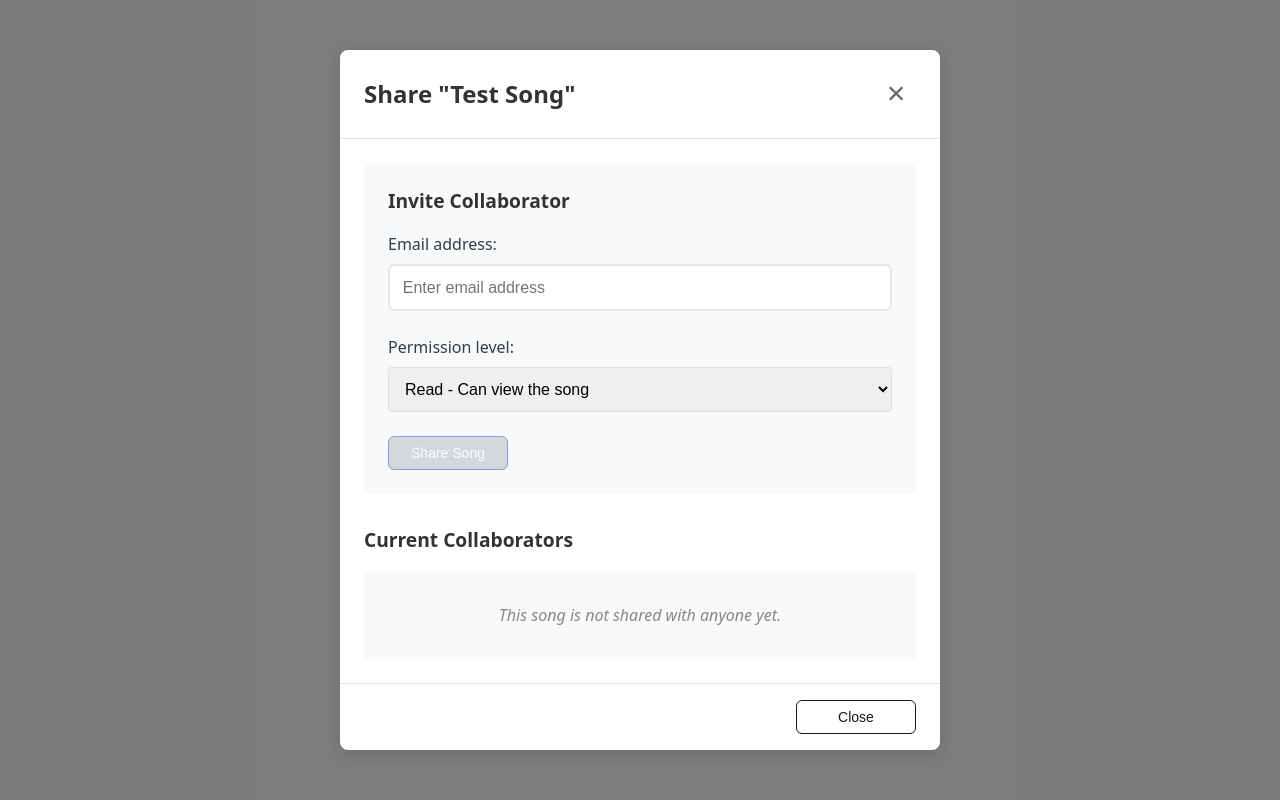
Scenario: SongSharingModal › handles sharing errors
Type "invalid@example.com" into the field labelled "Email address:".
click(640, 288); type("invalid@example.com")  # box [388,264,892,311]
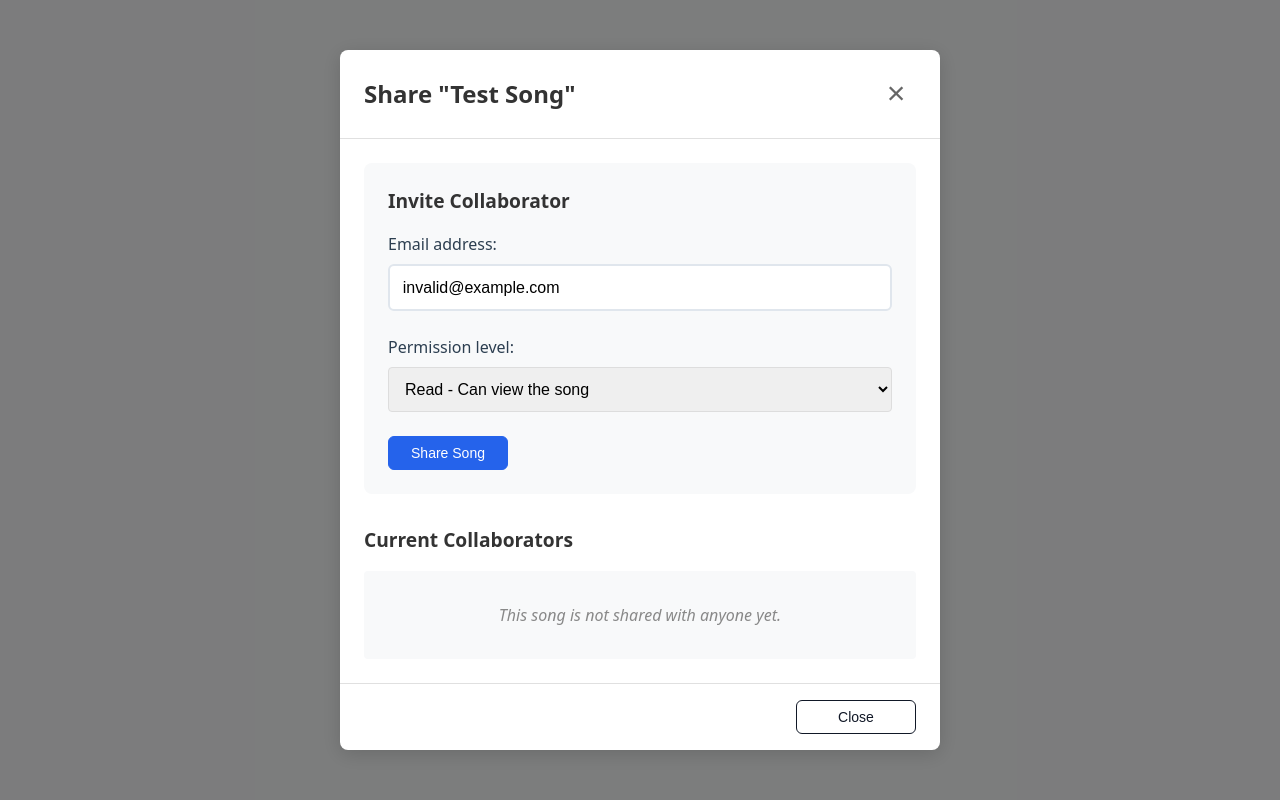
Click the button "Share Song".
click(448, 453)  # box [388,436,508,470]
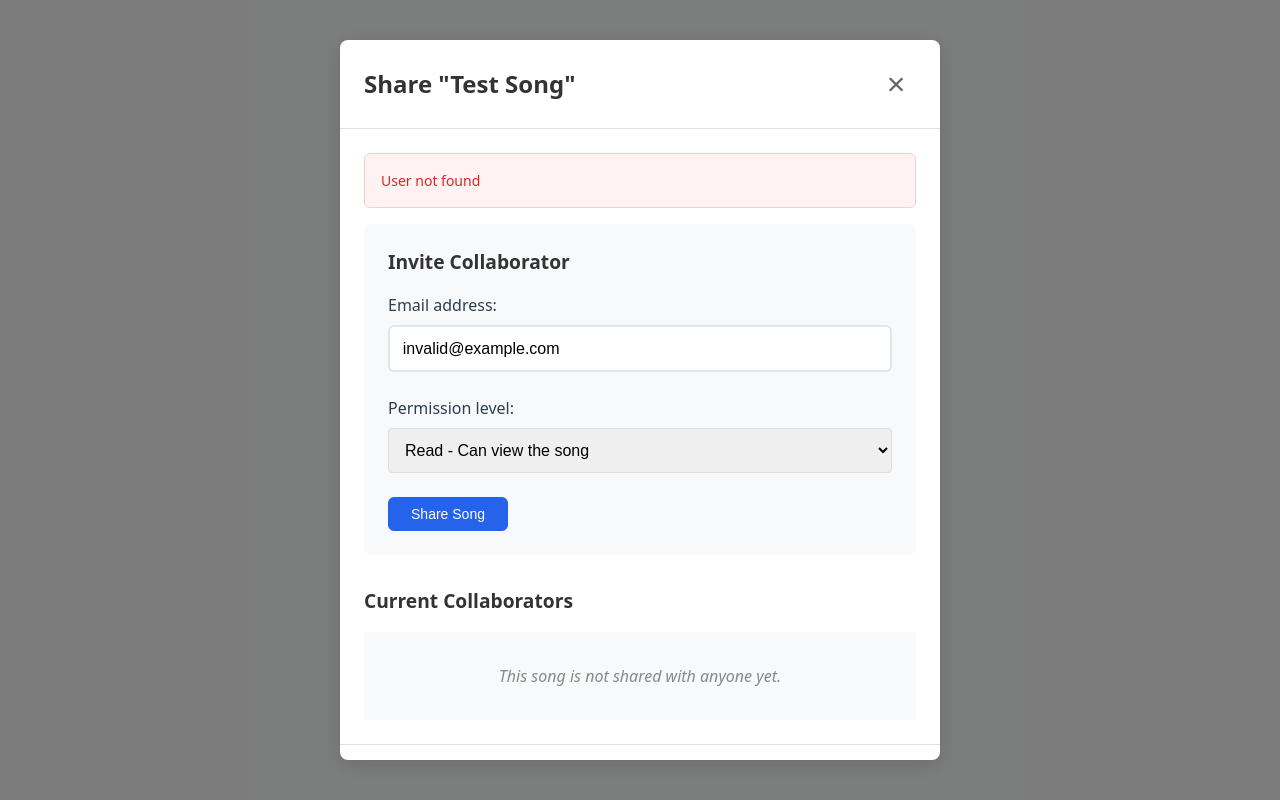
Expected: the text "User not found" is shown, [364,153,916,208]
